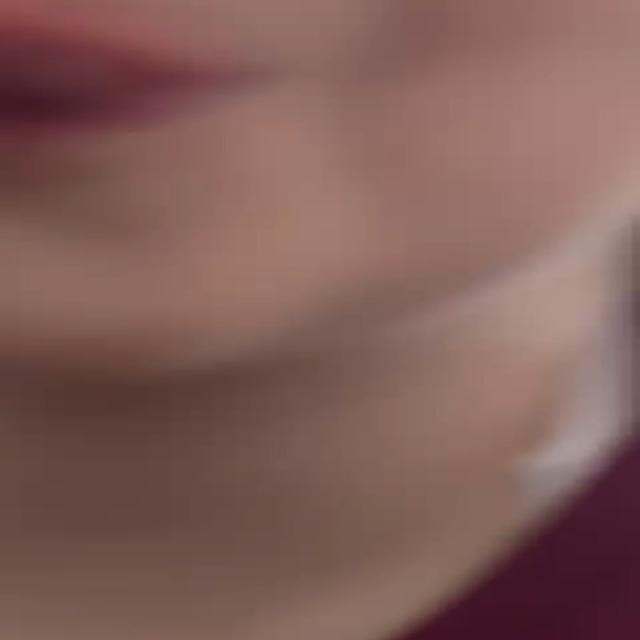authorized: (3, 0, 637, 638)
